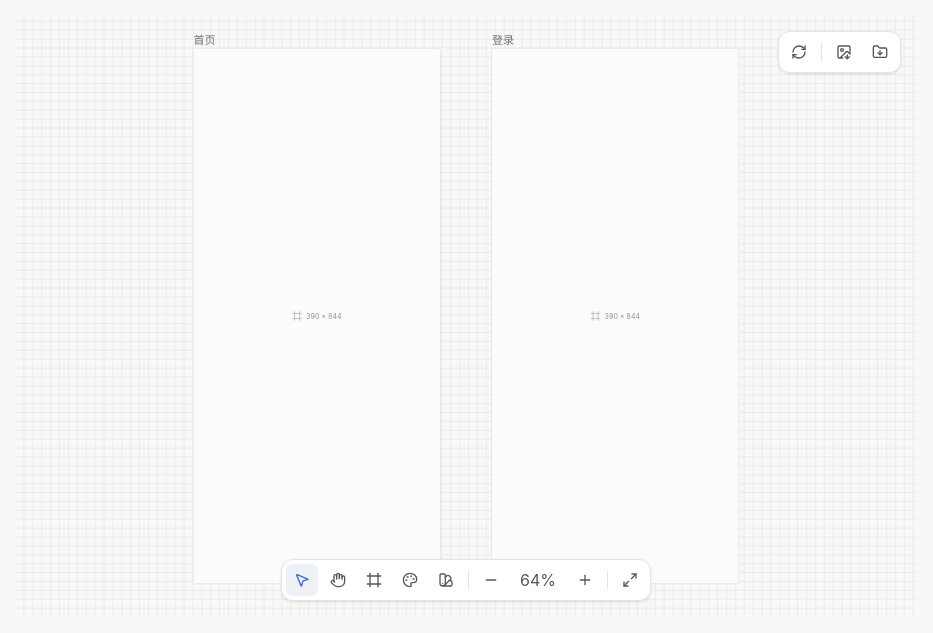
Scenario: design canvas › 选中的帧上写着怎么进入 —— 位图和真页面看着一样,而它点不动
Click the element with class "react-flow__node" showing "390 × 844 首页".
click(317, 316)  # box [193,48,441,584]
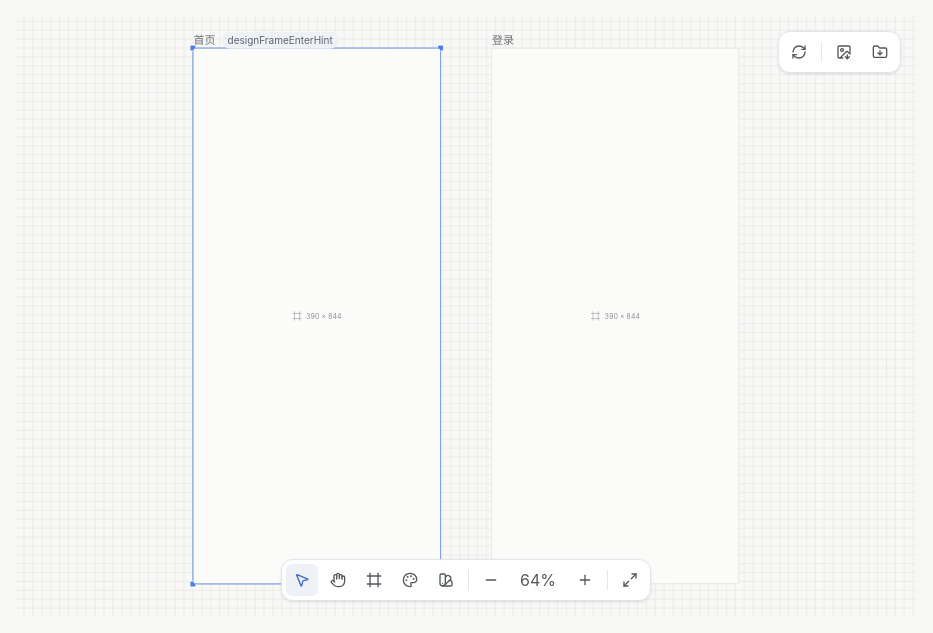
Check: the text "designFrameEnterHint" is shown, box [222,32,339,49]
